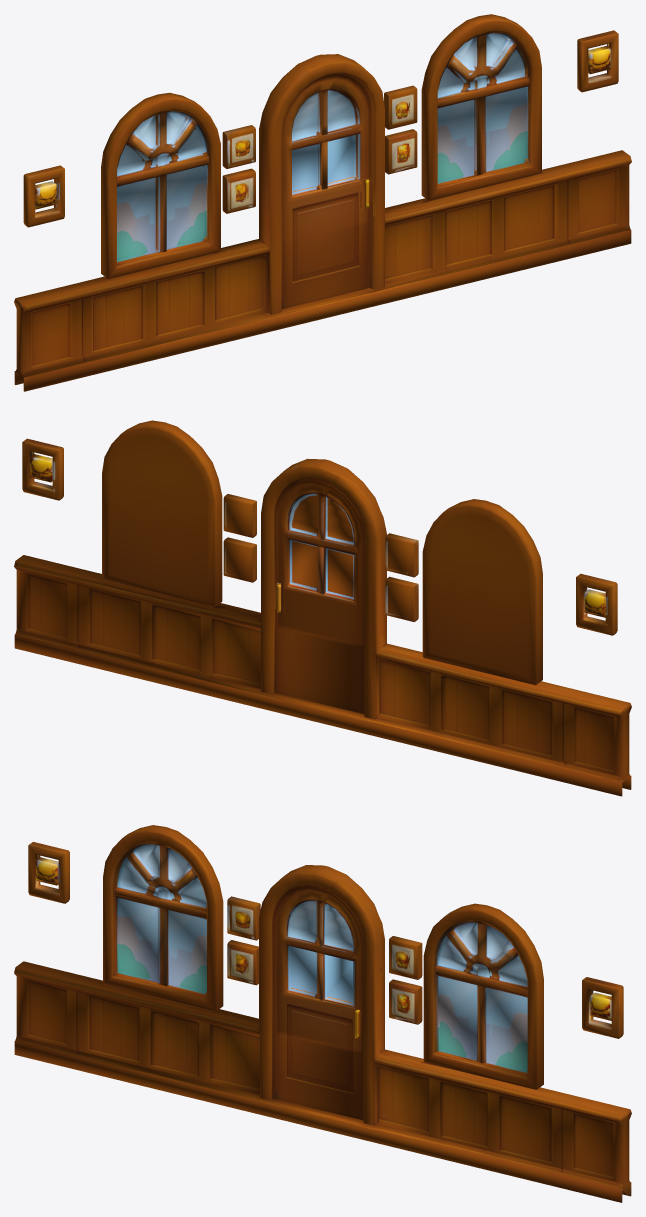
The model's file is bgprops.fbx.
3 views of the same model, one above another, from view 1: azimuth 30°, elevation 25°; view 2: azimuth 150°, elevation 25°; view 3: azimuth 330°, elevation 25° (orthographic).
Visible parts, largest first — view 1: mesh_rep_0_ori_repair_quad; view 2: mesh_rep_0_ori_repair_quad; view 3: mesh_rep_0_ori_repair_quad.
Boxes of the visible parts, x1,y1,x2,y2 form: mesh_rep_0_ori_repair_quad: (14, 14, 631, 391); mesh_rep_0_ori_repair_quad: (14, 420, 631, 796); mesh_rep_0_ori_repair_quad: (14, 825, 631, 1202).
Bounding box in the file's own units: 111 × 44.79 × 3.7.
1 material, 1 textured.
